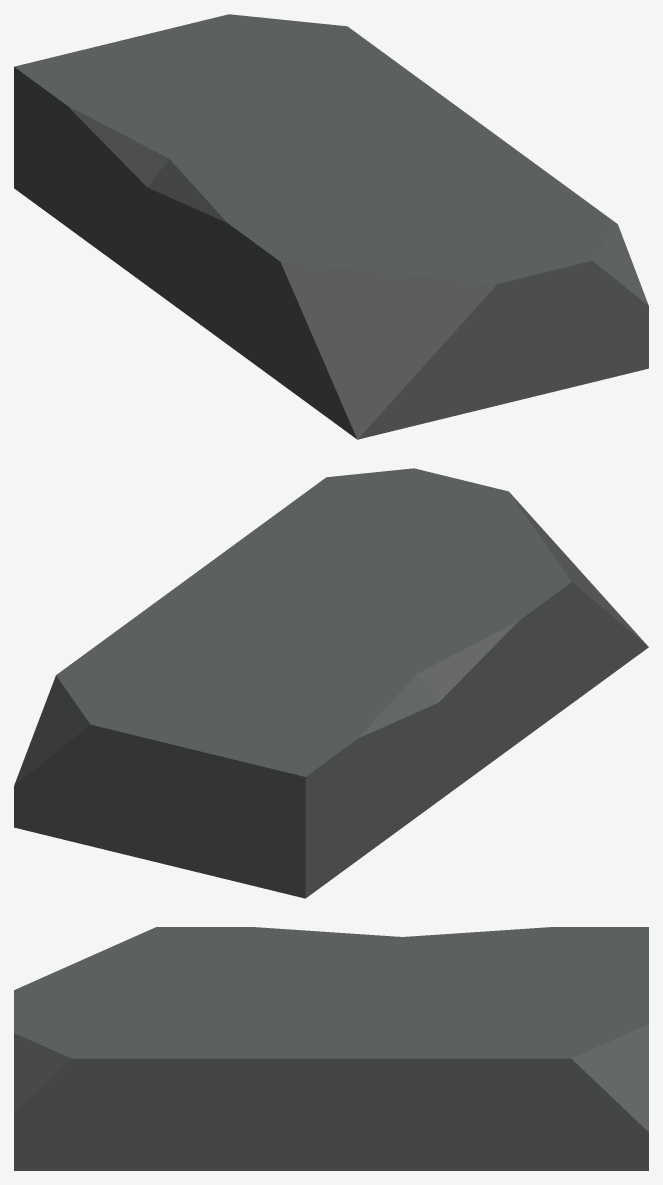
The model's file is SM_Env_Brick_09.fbx.
3 views of the same model, one above another, from view 1: azimuth 30°, elevation 25°; view 2: azimuth 150°, elevation 25°; view 3: azimuth 270°, elevation 25° (orthographic). The views are drawn at different scales.
Visible parts, largest first — view 1: SM_Env_Brick_09; view 2: SM_Env_Brick_09; view 3: SM_Env_Brick_09.
Boxes of the visible parts, <box> form: SM_Env_Brick_09: <box>14,14,648,439</box>; SM_Env_Brick_09: <box>14,468,648,898</box>; SM_Env_Brick_09: <box>14,927,648,1170</box>.
Size of the model in its own units: 38.94 by 15.53 by 79.48.
Materials: 1 (1 with a texture image).
